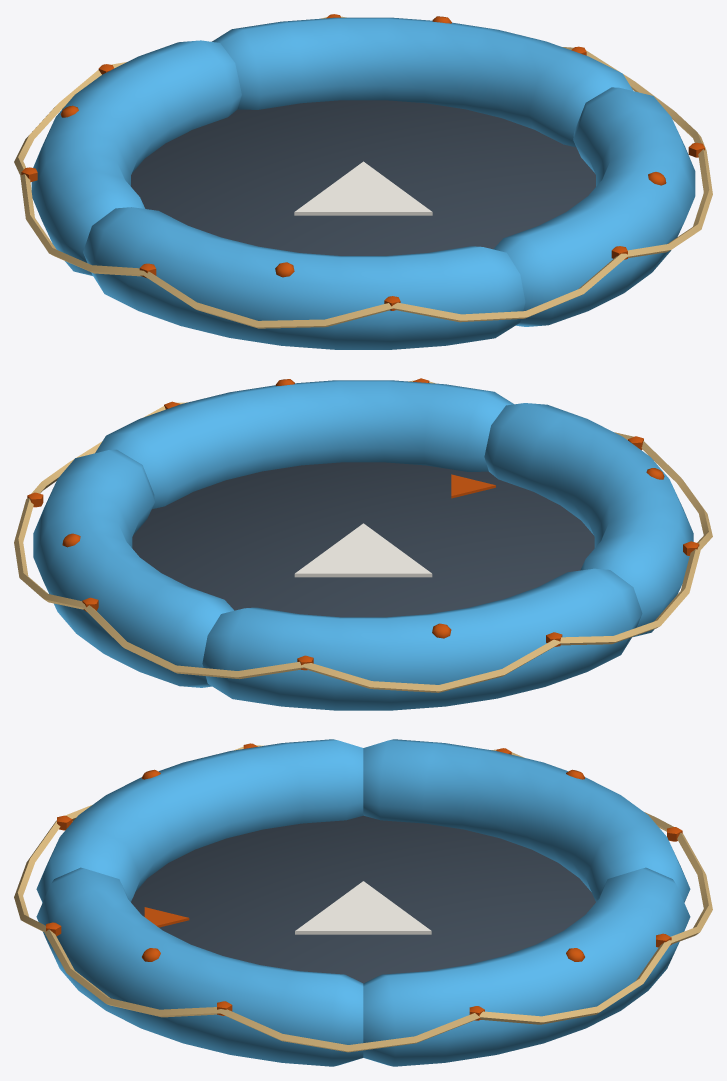
File: MiniRaft_J2.fbx
3 renders of one model, top to bottom at view 1: azimuth 30°, elevation 25°; view 2: azimuth 150°, elevation 25°; view 3: azimuth 270°, elevation 25°, orthographic.
Parts seen in each view (by area): view 1: Raft_Floor, Chamber_0_NE, Chamber_3_SO, Chamber_1_NO, Chamber_2_SE, Raft_Rope; view 2: Raft_Floor, Chamber_2_SE, Chamber_1_NO, Chamber_3_SO, Chamber_0_NE, Raft_Rope; view 3: Raft_Floor, Chamber_3_SO, Chamber_1_NO, Chamber_0_NE, Chamber_2_SE, Raft_Rope.
Part boxes in pixels (x1=…): Raft_Floor: x1=131, y1=100, x2=595, y2=255; Chamber_0_NE: x1=83, y1=207, x2=525, y2=349; Chamber_3_SO: x1=212, y1=16, x2=633, y2=147; Chamber_1_NO: x1=493, y1=87, x2=695, y2=326; Chamber_2_SE: x1=31, y1=40, x2=241, y2=275; Raft_Rope: x1=14, y1=14, x2=712, y2=328; Raft_Floor: x1=132, y1=462, x2=594, y2=617; Chamber_2_SE: x1=202, y1=568, x2=642, y2=710; Chamber_1_NO: x1=95, y1=379, x2=513, y2=508; Chamber_3_SO: x1=33, y1=449, x2=233, y2=687; Chamber_0_NE: x1=484, y1=403, x2=693, y2=637; Raft_Rope: x1=14, y1=378, x2=712, y2=692; Raft_Floor: x1=131, y1=815, x2=595, y2=983; Chamber_3_SO: x1=363, y1=867, x2=690, y2=1066; Chamber_1_NO: x1=36, y1=867, x2=363, y2=1066; Chamber_0_NE: x1=36, y1=739, x2=363, y2=902; Chamber_2_SE: x1=363, y1=739, x2=690, y2=902; Raft_Rope: x1=14, y1=743, x2=712, y2=1052.
Size of the model in its own units: 2.13 by 0.3 by 2.13.
